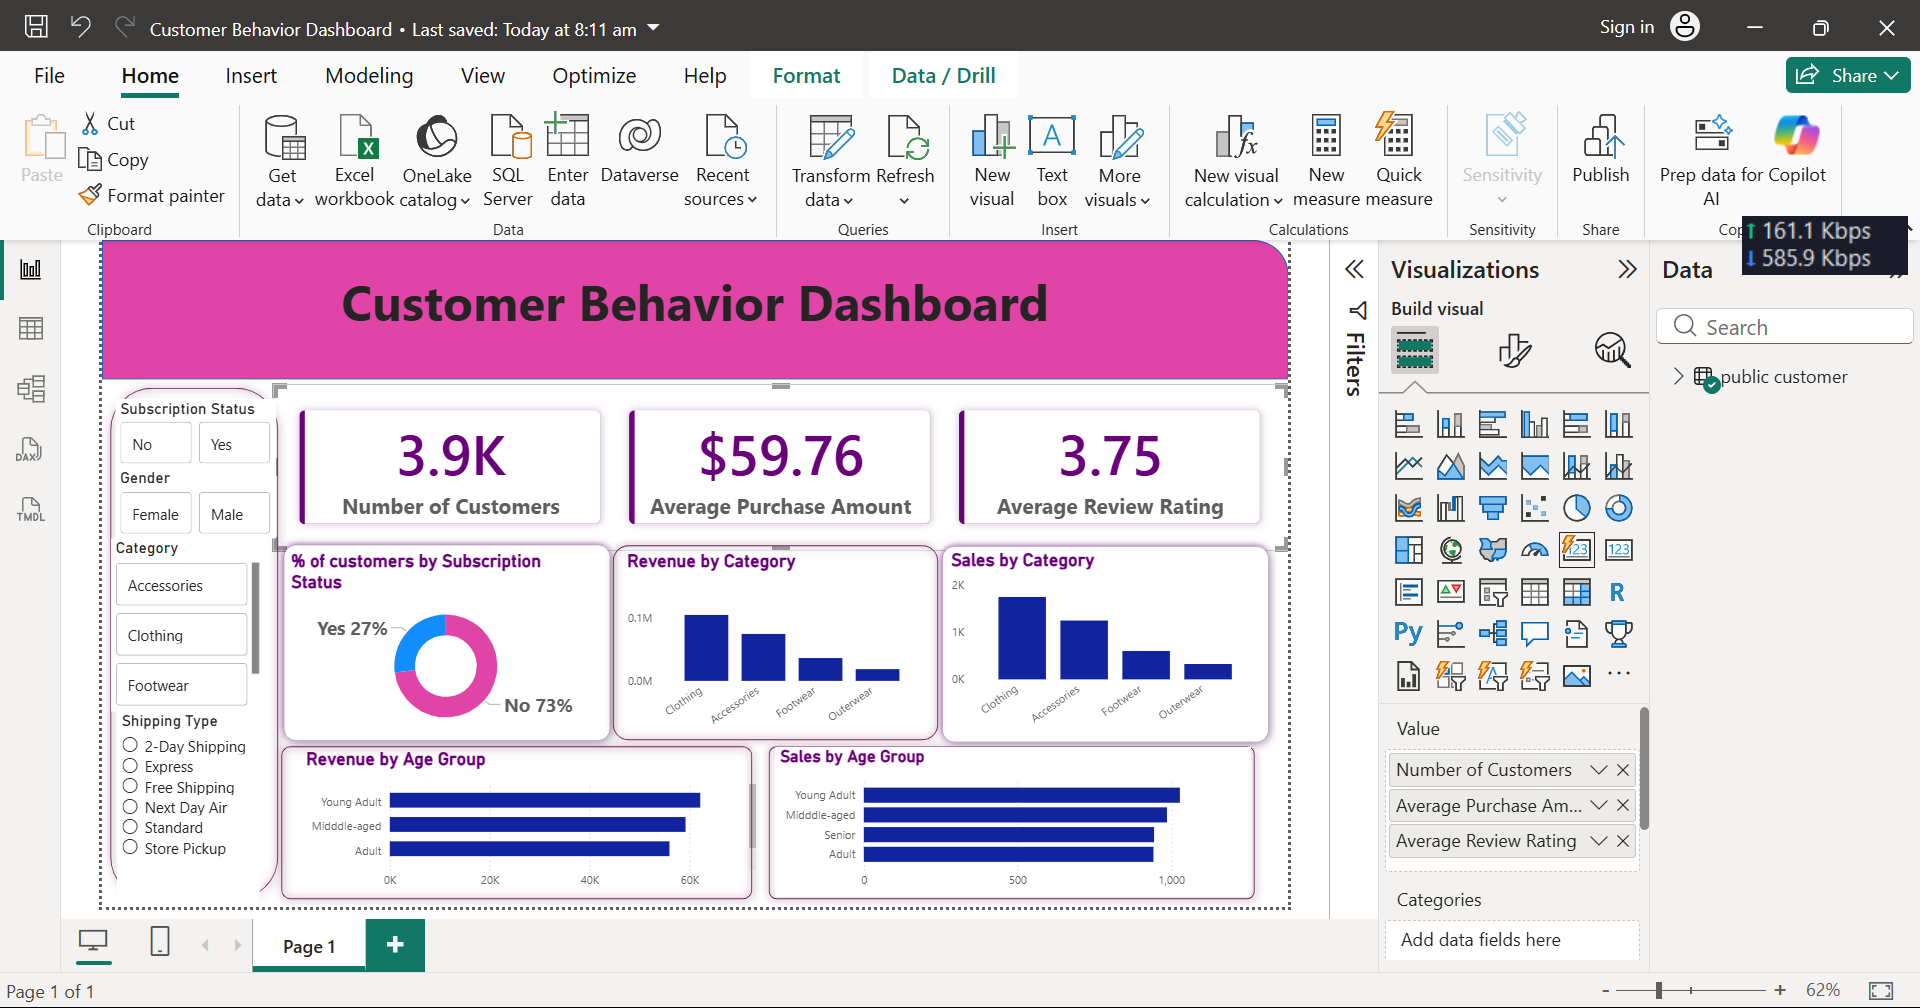

The dashboard page shown, as its layout file describes it:
{"tool":"powerbi","page":{"name":"Page 1","canvas":[1280,720],"ordinal":0},"visuals":[{"type":"cardVisual","fields":{"Data":["public customer.Number of Customers","public customer.Average Purchase Amount","public customer.Average Review Rating"]},"box":[184.6,155.4,1096.2,179.7],"z":0},{"type":"shape","box":[0,0,1280.8,150.6],"z":1000},{"type":"textbox","box":[0,24.3,1280.8,126.3],"z":2000},{"type":"shape","box":[187.8,320.6,369.2,228.3],"z":3000},{"type":"donutChart","title":"% of customers by Subscription Status","fields":{"Category":["public customer.subscription_status"],"Y":["CountNonNull(public customer.customer_id)"]},"box":[199.2,335.2,343.3,200.8],"z":4000},{"type":"shape","box":[898.7,322.2,369.2,228.3],"z":5000},{"type":"clusteredColumnChart","title":"Revenue by Category","fields":{"Y":["Sum(public customer.purchase_amount)"],"Category":["public customer.category"]},"box":[561.9,335.2,330.3,202.4],"z":6000},{"type":"clusteredColumnChart","title":"Sales by Category","fields":{"Category":["public customer.category"],"Y":["CountNonNull(public customer.customer_id)"]},"box":[911.6,333.6,341.7,202.4],"z":7000},{"type":"shape","box":[0,150.6,199.2,570],"z":8000},{"type":"advancedSlicerVisual","fields":{"Values":["public customer.subscription_status"]},"box":[14.6,171.6,170,74.5],"z":9000},{"type":"advancedSlicerVisual","fields":{"Values":["public customer.gender"]},"box":[14.6,246.1,173.3,76.1],"z":10000},{"type":"advancedSlicerVisual","fields":{"Values":["public customer.category"]},"box":[9.7,322.2,165.2,186.2],"z":11000},{"type":"listSlicer","fields":{"Values":["public customer.shipping_type"]},"box":[16.2,508.4,153.8,212.1],"z":12000},{"type":"clusteredBarChart","title":"Revenue by Age Group","fields":{"Y":["Sum(public customer.purchase_amount)"],"Category":["public customer.age_group"]},"box":[215.4,548.9,495.5,160.3],"z":13000},{"type":"shape","box":[542.4,320.6,369.2,228.3],"z":14000},{"type":"shape","box":[184.6,537.6,526.2,183],"z":15000},{"type":"shape","box":[710.8,537.6,542.4,183],"z":16000},{"type":"clusteredBarChart","title":"Sales by Age Group","fields":{"Y":["CountNonNull(public customer.customer_id)"],"Category":["public customer.age_group"]},"box":[727,547.3,513.3,161.9],"z":17000}]}

Visuals, with their boxes on the page's 1280x720 design canvas (x1, y1, x2, y2). These are canvas units, not pixel positions in the 1920x1008 screenshot, which may show the page scaled, cropped or inside an application window:
cardVisual - public customer.Number of Customers x public customer.Average Purchase Amount: 185, 155, 1281, 335
shape: 0, 0, 1281, 151
textbox: 0, 24, 1281, 151
shape: 188, 321, 557, 549
"% of customers by Subscription Status" donutChart: 199, 335, 542, 536
shape: 899, 322, 1268, 550
"Revenue by Category" clusteredColumnChart: 562, 335, 892, 538
"Sales by Category" clusteredColumnChart: 912, 334, 1253, 536
shape: 0, 151, 199, 721
advancedSlicerVisual - public customer.subscription_status: 15, 172, 185, 246
advancedSlicerVisual - public customer.gender: 15, 246, 188, 322
advancedSlicerVisual - public customer.category: 10, 322, 175, 508
listSlicer - public customer.shipping_type: 16, 508, 170, 720
"Revenue by Age Group" clusteredBarChart: 215, 549, 711, 709
shape: 542, 321, 912, 549
shape: 185, 538, 711, 721
shape: 711, 538, 1253, 721
"Sales by Age Group" clusteredBarChart: 727, 547, 1240, 709
